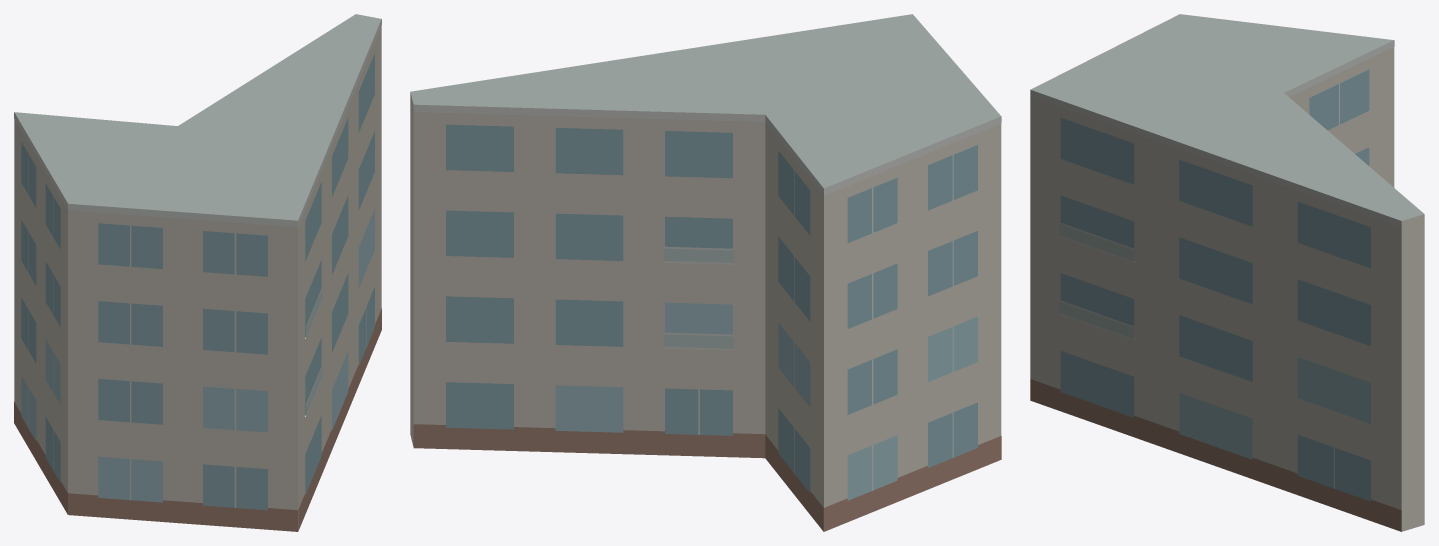
Rendered from survey-upis-32833735.glb.
3 renders of one model, left to right at view 1: azimuth 30°, elevation 25°; view 2: azimuth 150°, elevation 25°; view 3: azimuth 270°, elevation 25°, orthographic. The views are drawn at different scales.
Visible parts, largest first — view 1: survey-upis-32833735.tmp; view 2: survey-upis-32833735.tmp; view 3: survey-upis-32833735.tmp.
Part boxes in pixels (x1,y1,x2,y2): survey-upis-32833735.tmp: [14, 14, 381, 531]; survey-upis-32833735.tmp: [410, 14, 1001, 531]; survey-upis-32833735.tmp: [1030, 14, 1424, 531].
Size of the model in its own units: 16.57 by 11.6 by 13.34.
